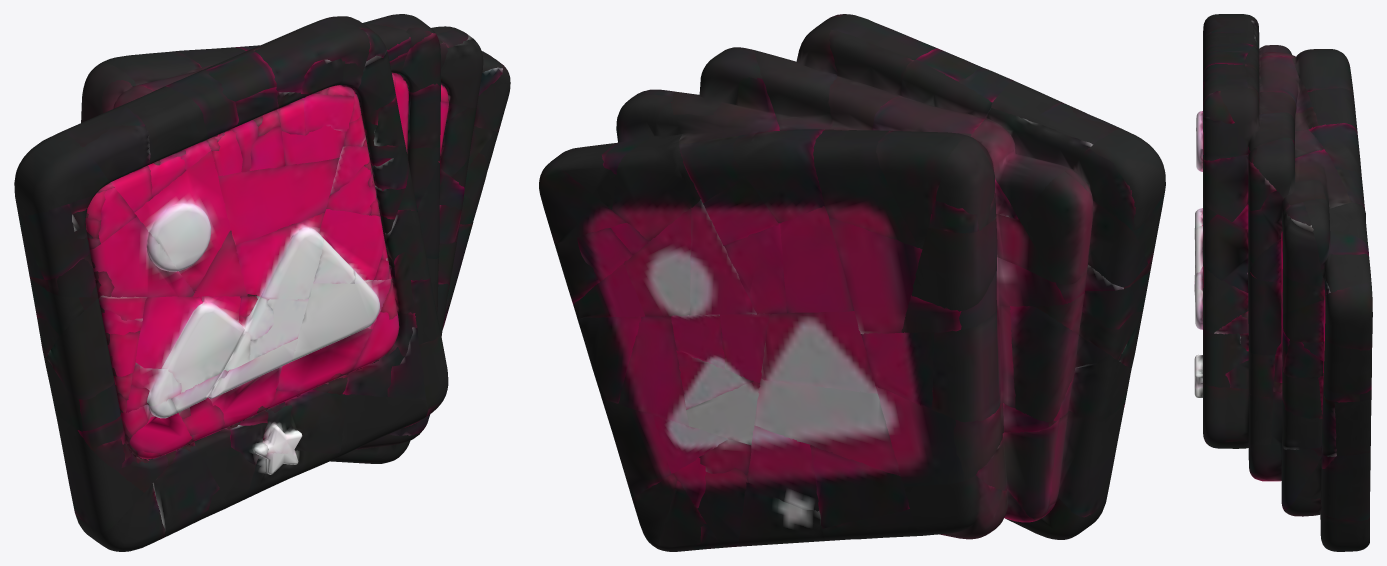
File: poplur_cube_cameraroll.glb
3 renders of one model, left to right at view 1: azimuth 30°, elevation 25°; view 2: azimuth 150°, elevation 25°; view 3: azimuth 270°, elevation 25°, orthographic. The views are drawn at different scales.
Size of the model in its own units: 1.9 by 1.68 by 0.6475.
1 material, 1 textured.
